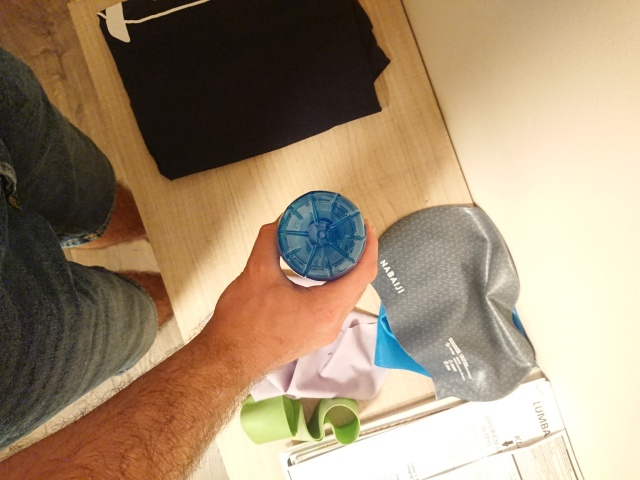Vindi Iso Sport Forest Strawberries 500mL: (275, 188, 369, 283)
